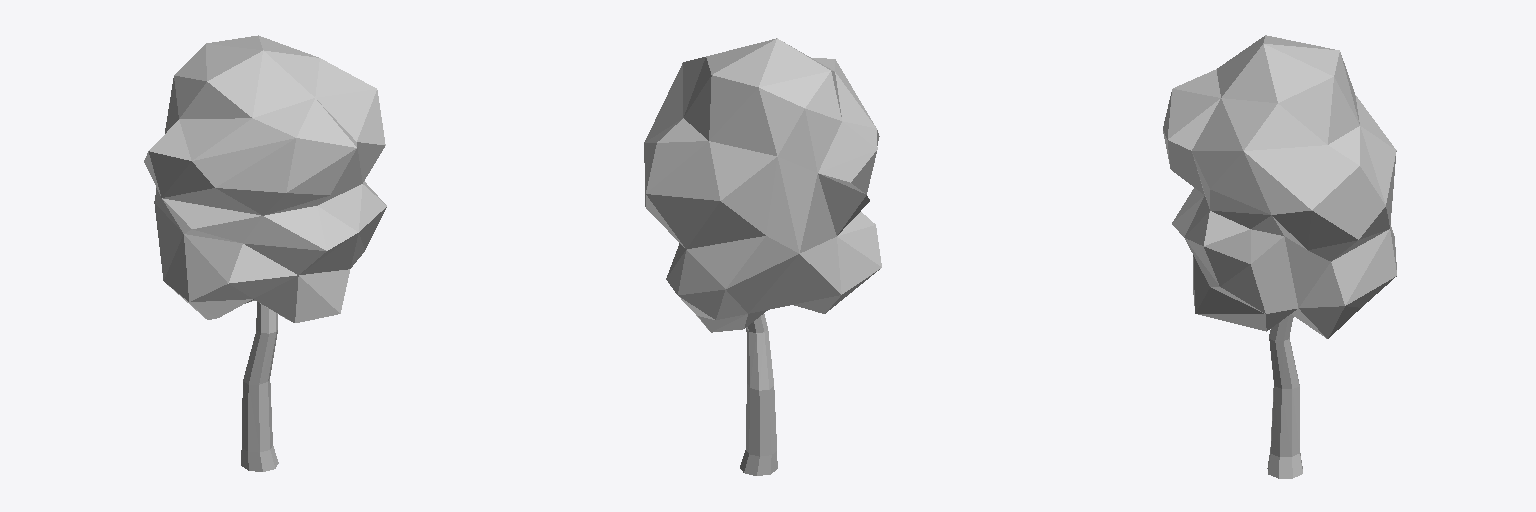
File: ShibuyaTree_01.obj
The picture shows the model from 3 angles: view 1: azimuth 30°, elevation 25°; view 2: azimuth 150°, elevation 25°; view 3: azimuth 270°, elevation 25°; orthographic projection.
Visible parts, largest first — view 1: Tree_01; view 2: Tree_01; view 3: Tree_01.
Part boxes in pixels (bbox=[...]): Tree_01: bbox=[144, 35, 386, 471]; Tree_01: bbox=[644, 38, 881, 475]; Tree_01: bbox=[1163, 35, 1396, 478].
Size of the model in its own units: 3.3 by 6.15 by 3.09.